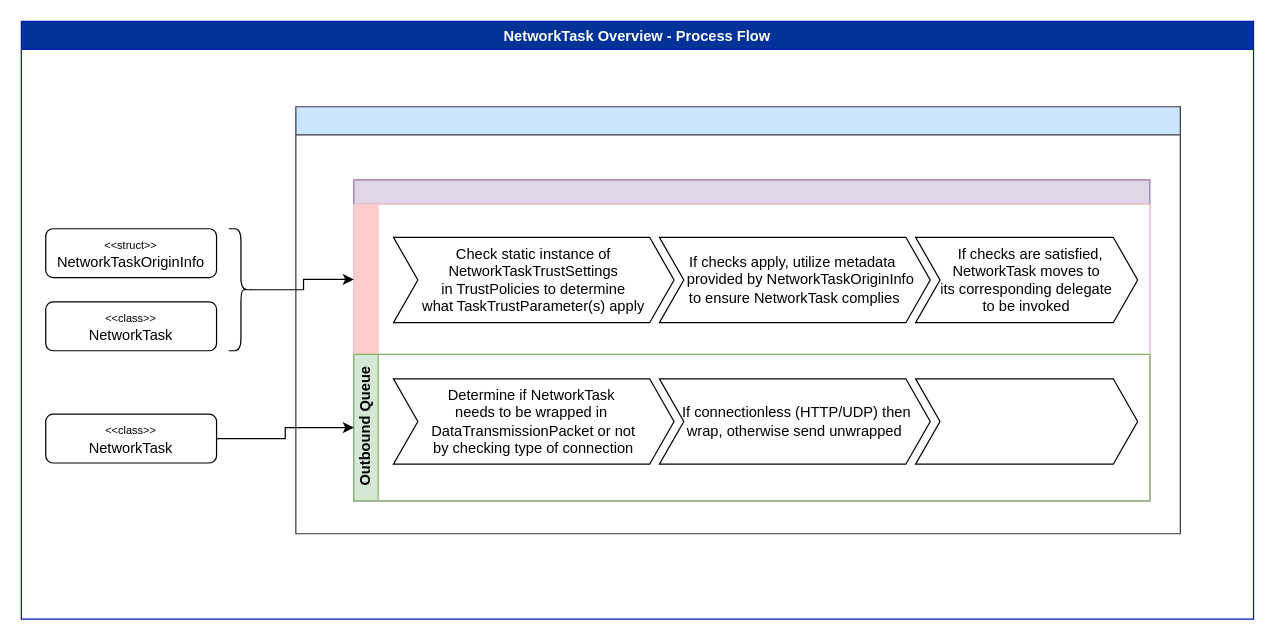
Some shapes in this 1275 by 641 pixel diagram are drawn without their labels. The shapes that lost their labels are listed below. From the top down, each one's box as (x1, y1, x2, y2) in pixels, then its label:
(353, 203, 1150, 354): Inbound Queue
(295, 106, 1180, 534): NetworkTaskHandler
(353, 179, 1150, 501): Queues
(914, 378, 1138, 464): Find recipient peer, proceed to send
